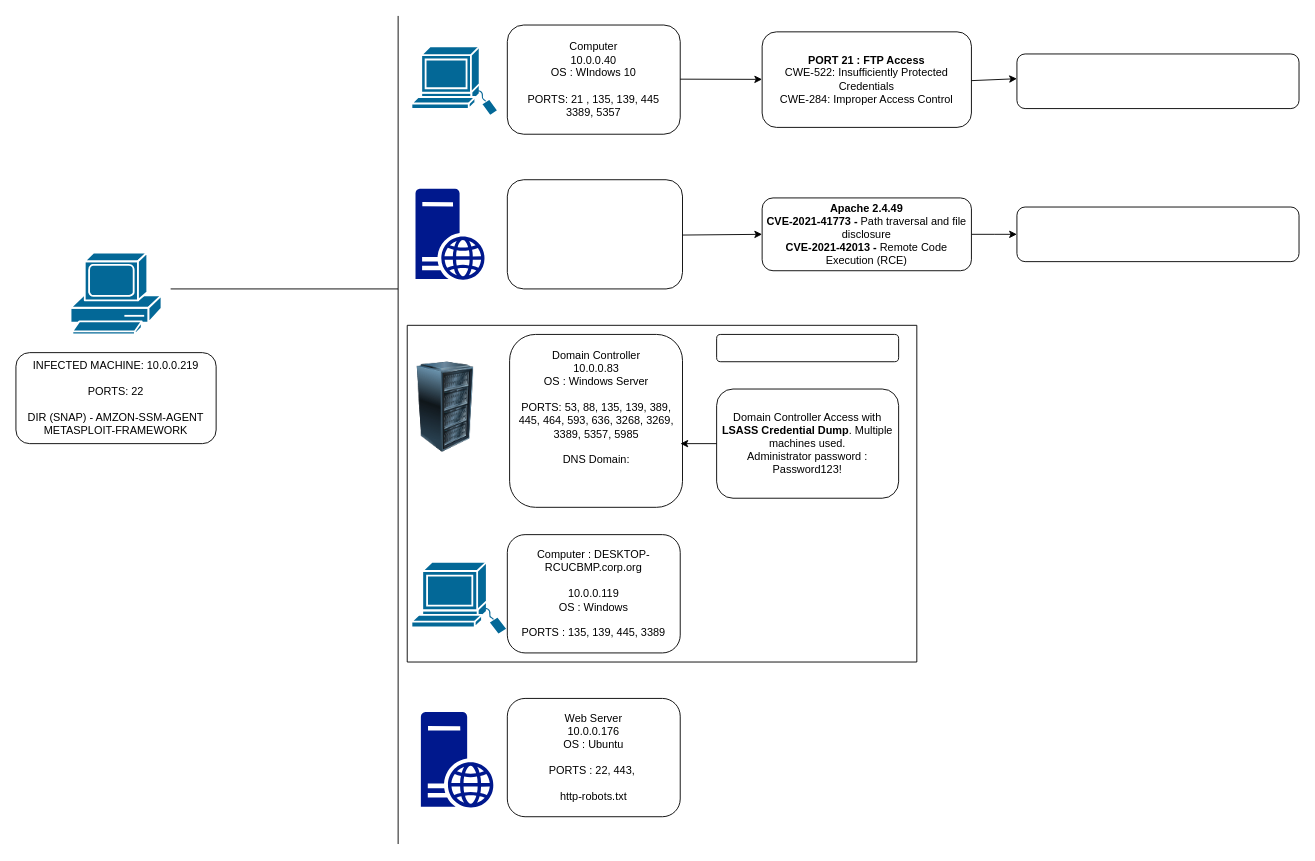
The diagram is 1315 pixels wide and 861 high, and some of its shapes have lost their labels. Here are the shapes that lost their labels. From the top down, the centre of each, then its label:
At pixel 1157 81: "FILE Found - RDP-SETTINGS: HASH (Admin:4d8b4d6e78c7a1679bcf58b4e37ff35f623c2b56)".
At pixel 594 234: "Web Server 10.0.0.56 OS : Apache HTTP 2.4.49 PORTS: 22, 80, 3306".
At pixel 1157 234: "RCE confirmed".
At pixel 807 348: "DOMAIN : CORP.ORG".
